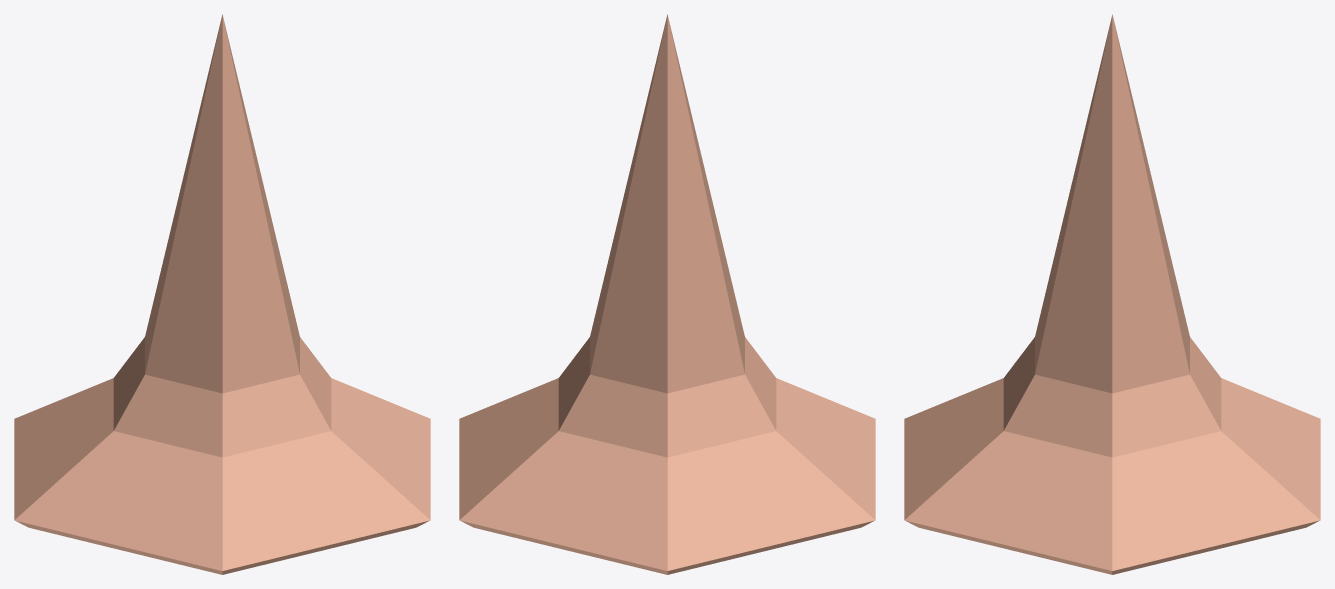
Rendered from Tower20.fbx.
3 views of the same model, side by side, from view 1: azimuth 30°, elevation 25°; view 2: azimuth 150°, elevation 25°; view 3: azimuth 270°, elevation 25° (orthographic).
Visible parts, largest first — view 1: Group1; view 2: Group1; view 3: Group1.
Boxes of the visible parts, x1,y1,x2,y2 form: Group1: [14, 14, 430, 574]; Group1: [459, 14, 875, 574]; Group1: [904, 14, 1320, 574].
Bounding box in the file's own units: 4016 × 4300 × 3478.
